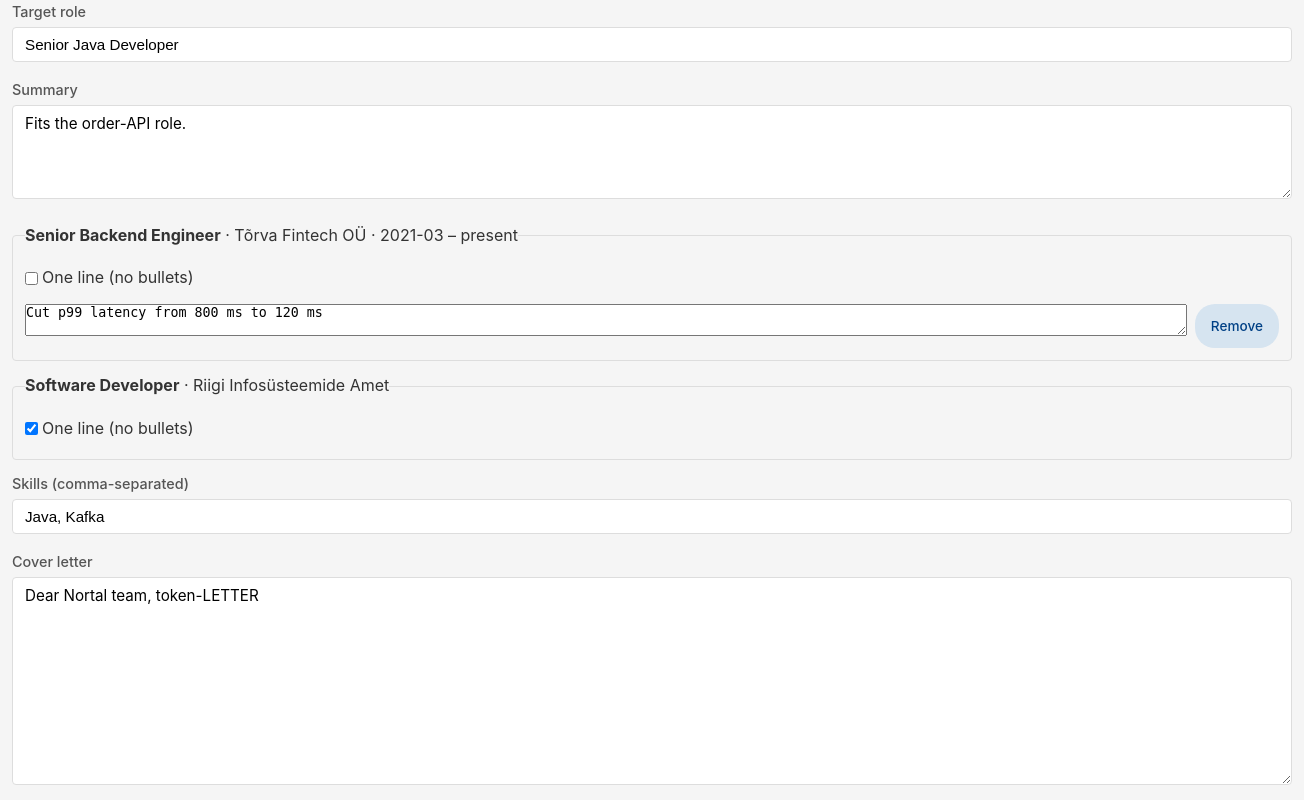
Scenario: PackageEditor › says what masi refused and keeps the operator's text
The image size is (1304, 800).
Type " more" into the text box labelled "Summary" at (652, 152), box top-left (12, 105), bottom-right (1292, 199)
(page scrolled)
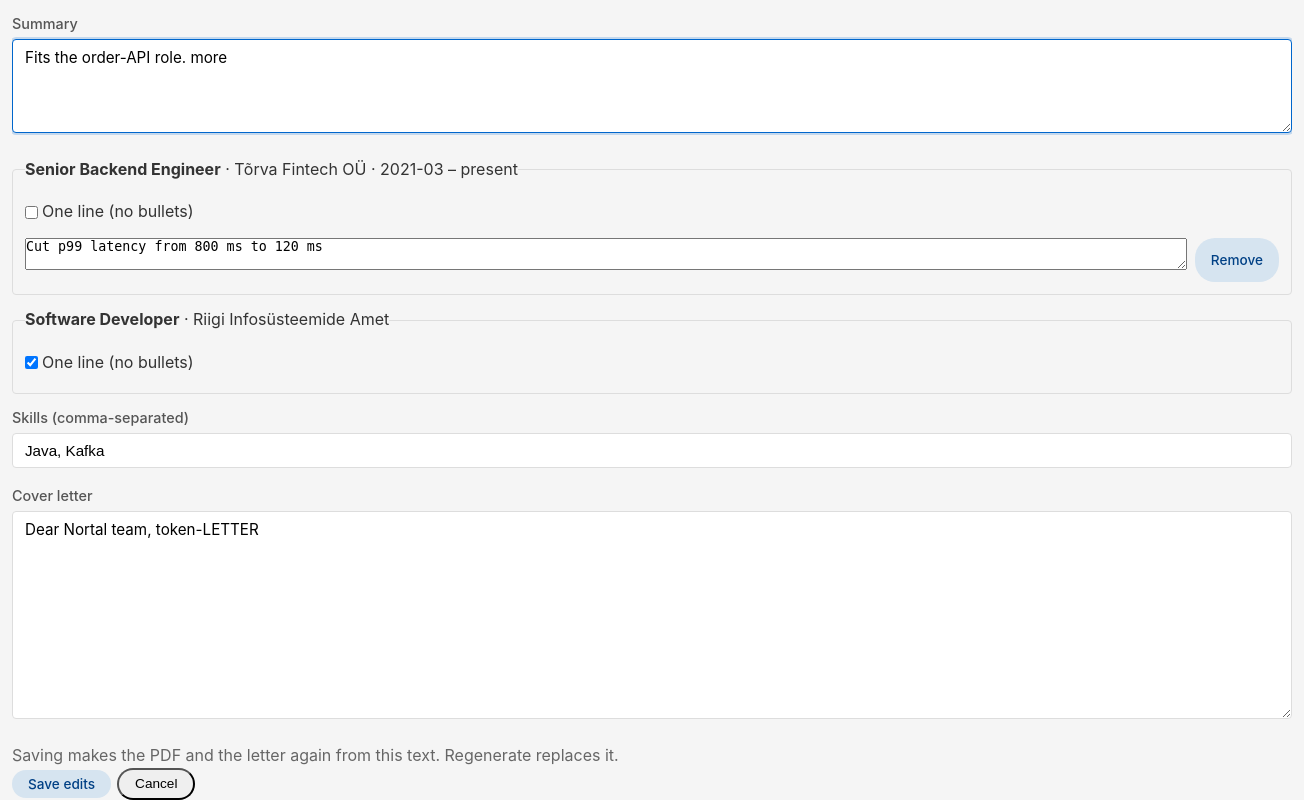
Click the button "Save edits" at (62, 784), box top-left (12, 770), bottom-right (111, 798)
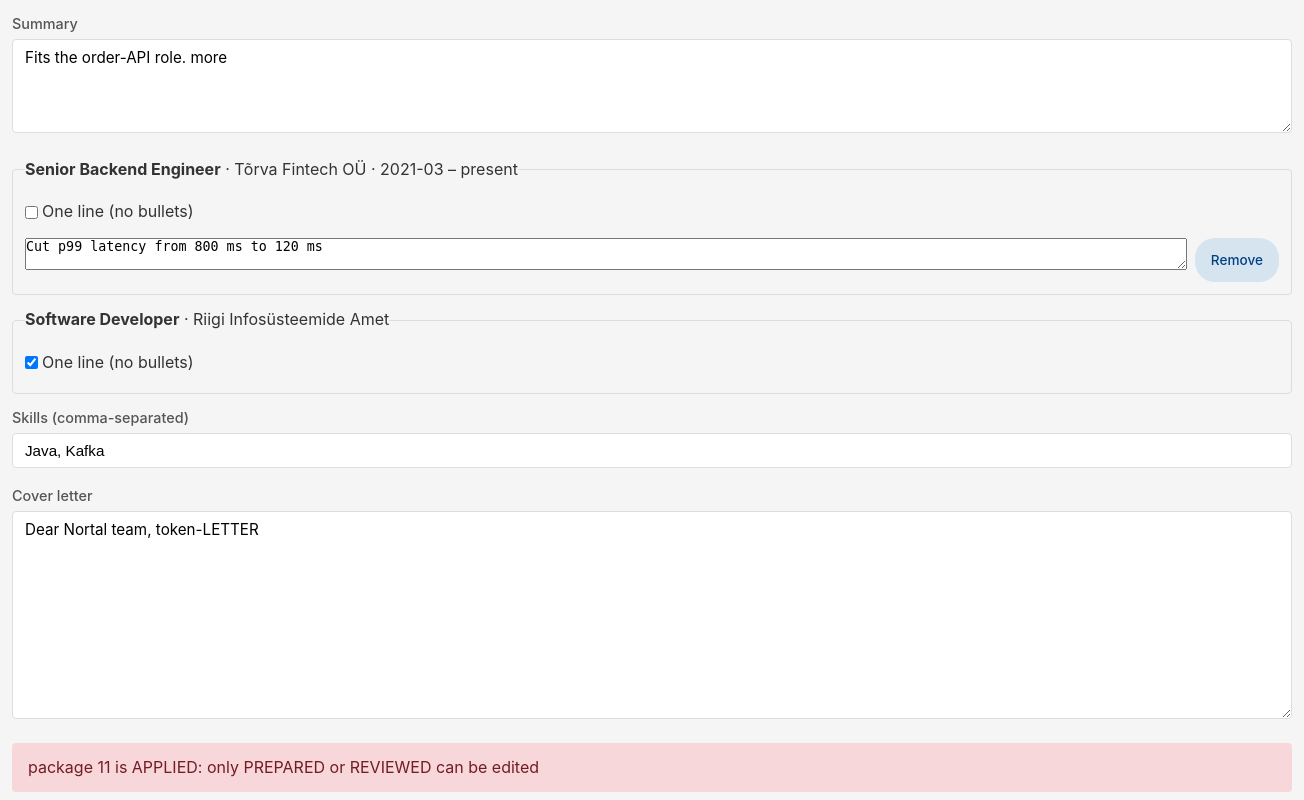
Result: the message shows "only PREPARED or REVIEWED can be edited" at top-left (28, 757), bottom-right (539, 777)
